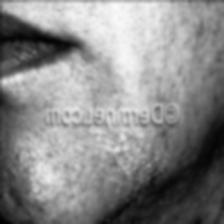Non-Cancerous Skin Condition: (16, 127, 202, 224)
